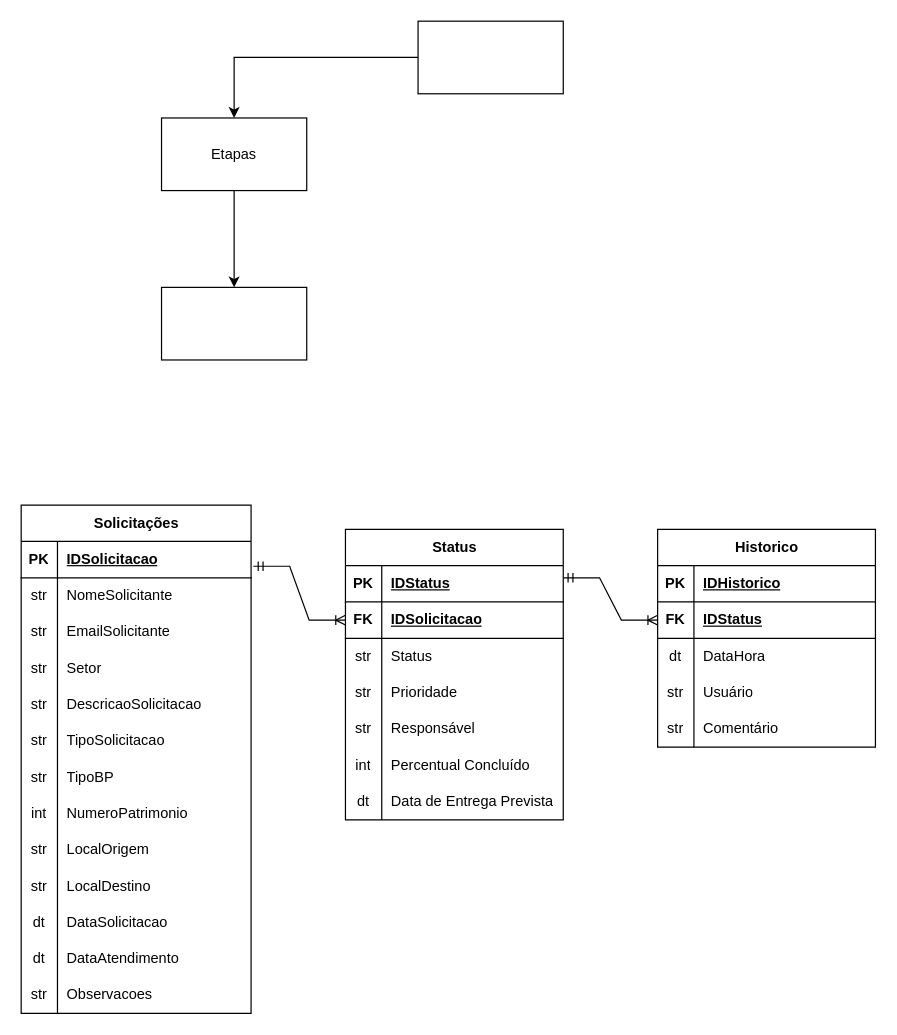
This 897x1035 diagram has some shape labels left out. The centre of each missing label's shape, as x and y in pixels:
"Histórico Etapas" goes at pixel 233 323.
"Projetos" goes at pixel 490 57.
